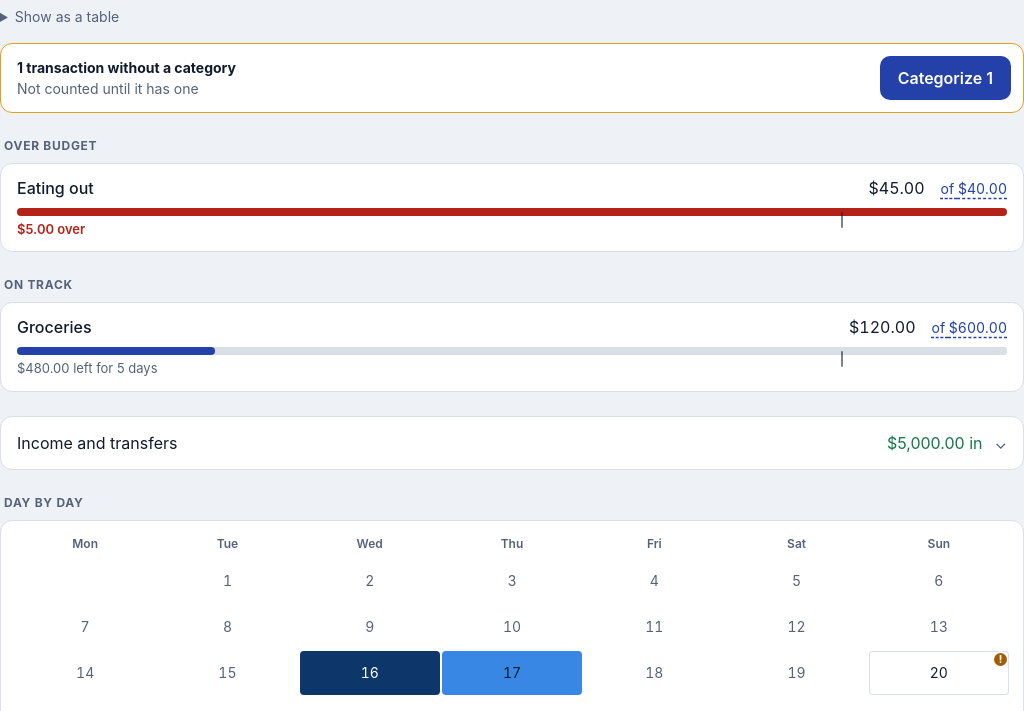
it: the month › keeps a budget from being saved with no signal
(page scrolled)
Click the button with aria-label "Budget for Groceries: $600.00".
click(969, 328)  # box [924,306,1015,350]
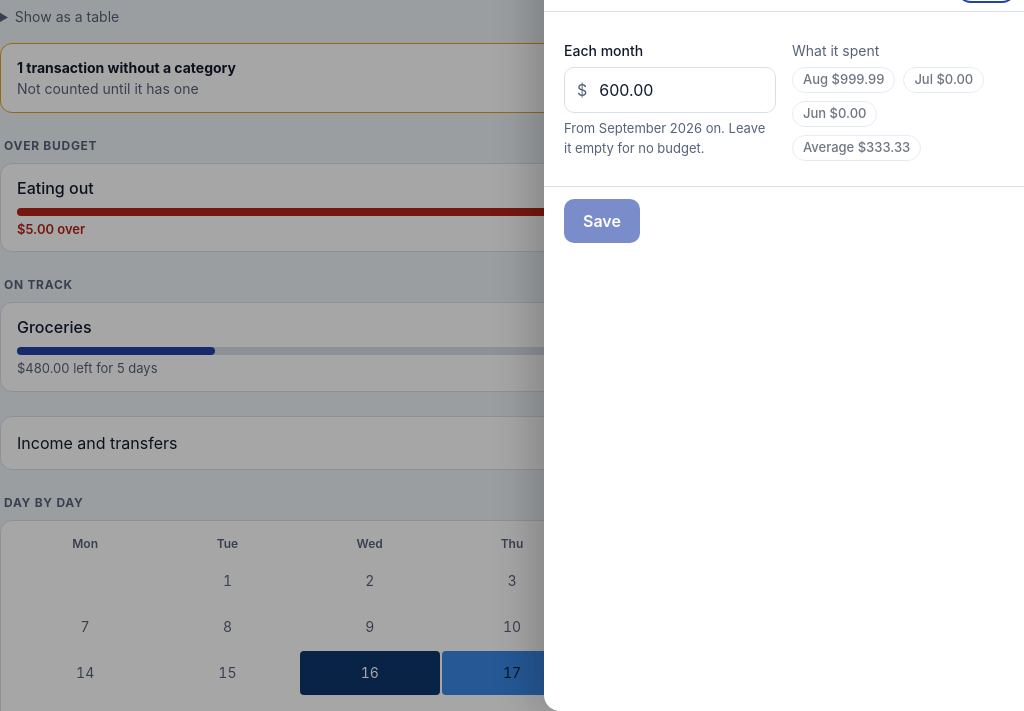
Result: the button "Save" is disabled at [564,199,640,243]
